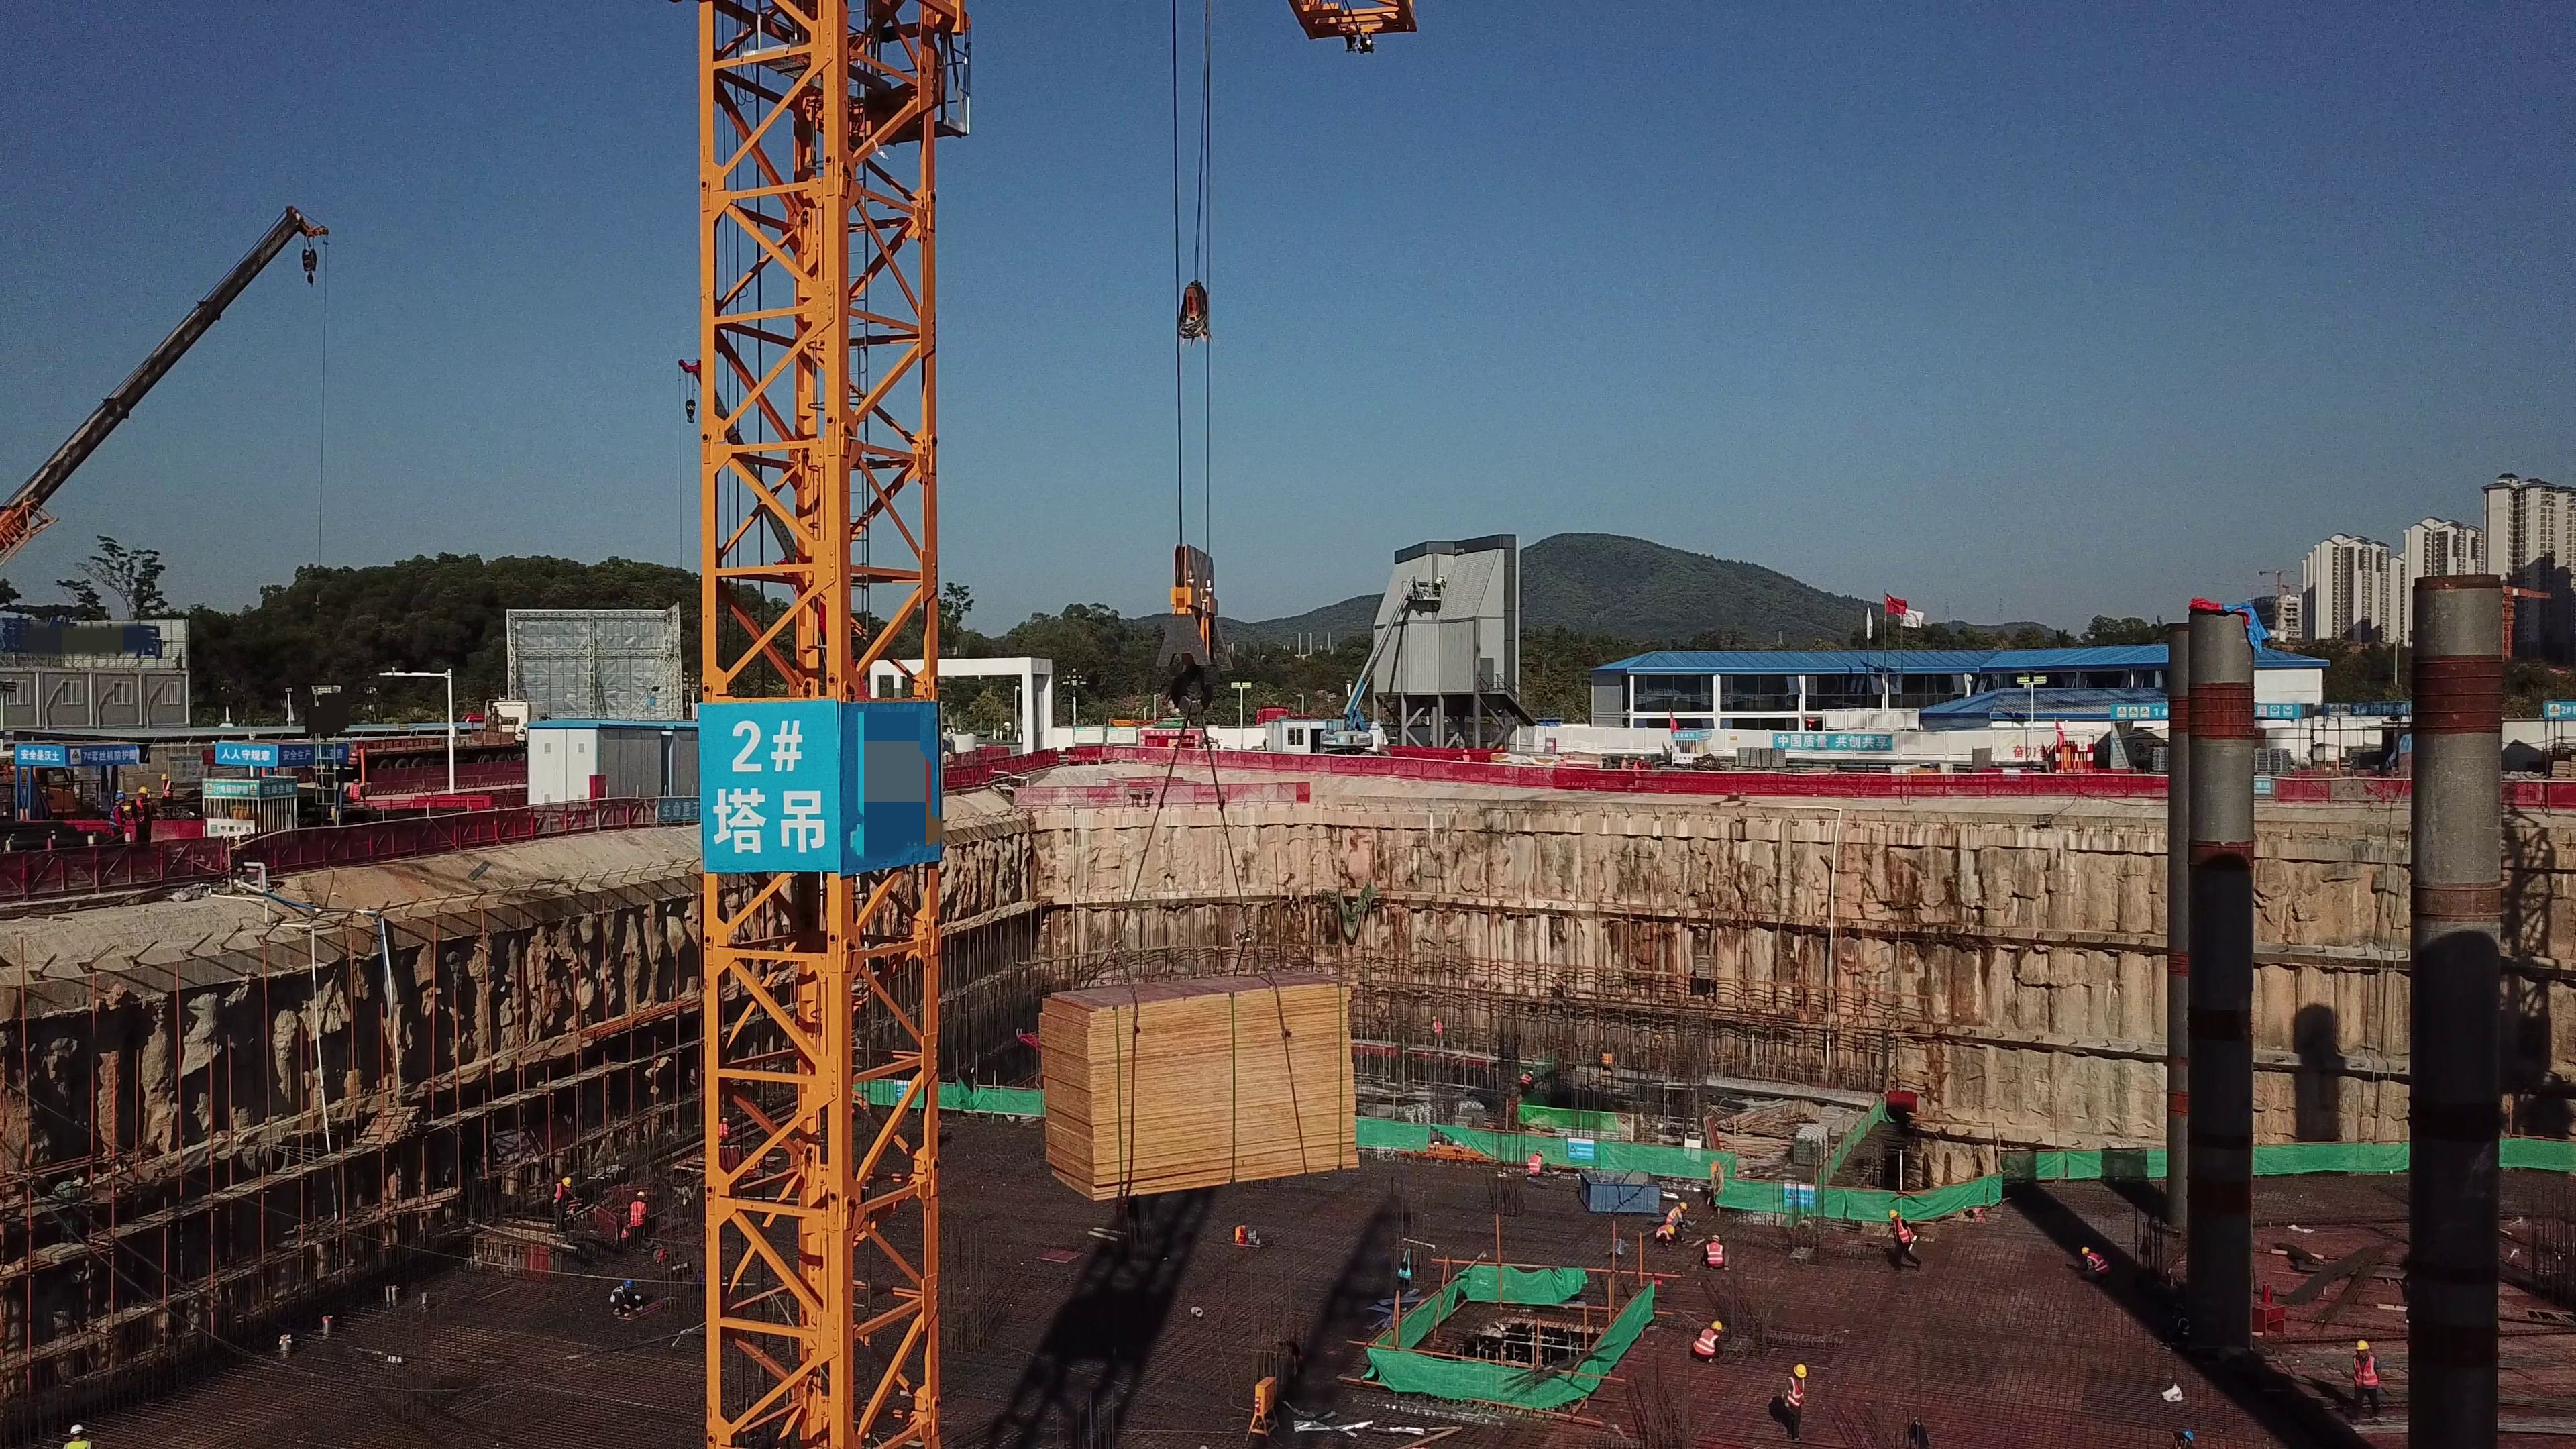board: (1045, 977, 1375, 1191)
brick: (1731, 747, 1794, 771)
ebox: (1248, 1371, 1293, 1438)
fence: (318, 789, 648, 851), (1811, 771, 2133, 798)
helmet: (2354, 1340, 2371, 1351), (1791, 1364, 1805, 1378), (561, 1177, 573, 1192), (136, 786, 150, 796), (1710, 1320, 1723, 1330), (623, 1279, 637, 1288), (633, 1193, 647, 1199), (1678, 1202, 1687, 1211), (1887, 1210, 1898, 1218), (1667, 1226, 1676, 1235), (114, 792, 127, 798), (160, 773, 170, 780), (1536, 1148, 1544, 1157), (1711, 1234, 1720, 1240), (2081, 1248, 2089, 1254), (1639, 755, 1646, 762), (1460, 748, 1469, 754), (720, 1116, 728, 1122), (1432, 1015, 1438, 1022), (1529, 1070, 1535, 1075), (1623, 753, 1629, 759)
hook: (1157, 545, 1234, 716), (299, 247, 317, 287), (683, 396, 699, 423)
hopper: (1582, 1170, 1660, 1218)
person: (2344, 1332, 2385, 1426), (1881, 1209, 1926, 1276), (1778, 1356, 1808, 1442), (547, 1172, 577, 1245), (604, 1277, 653, 1321), (623, 1190, 655, 1247), (1691, 1312, 1723, 1367), (2076, 1242, 2111, 1281), (1701, 1230, 1730, 1274), (132, 785, 154, 848), (109, 790, 130, 843), (157, 770, 180, 818), (62, 1419, 95, 1449), (1525, 1142, 1548, 1181), (713, 1114, 735, 1153), (1654, 1222, 1682, 1249), (1514, 1069, 1541, 1099), (1425, 1014, 1451, 1044), (1666, 1199, 1695, 1221), (1546, 969, 1564, 1002), (1630, 754, 1647, 772), (1620, 752, 1631, 771), (1458, 749, 1472, 763), (1261, 737, 1269, 749), (1556, 757, 1568, 766)
scaffold: (1403, 1093, 1486, 1132), (1796, 1124, 1830, 1163)
slogan: (704, 697, 842, 862), (1778, 733, 1896, 757), (70, 743, 142, 771), (219, 738, 276, 764), (659, 792, 703, 824), (284, 744, 348, 764), (2331, 702, 2413, 719), (15, 745, 62, 765), (207, 784, 258, 801), (2545, 700, 2576, 720), (262, 782, 297, 794), (1673, 731, 1700, 741)
vest: (2354, 1354, 2377, 1385), (1696, 1331, 1717, 1359), (1786, 1377, 1805, 1408), (110, 806, 127, 830), (627, 1201, 646, 1226), (135, 798, 152, 821), (2089, 1253, 2108, 1275), (1892, 1220, 1910, 1243), (1707, 1243, 1724, 1263), (553, 1185, 566, 1206), (1527, 1155, 1542, 1173), (609, 1285, 625, 1302), (1666, 1205, 1679, 1221), (1656, 1224, 1668, 1237), (161, 782, 172, 797), (718, 1123, 729, 1138), (1521, 1075, 1532, 1087), (1432, 1022, 1443, 1034), (1461, 754, 1470, 761), (1621, 759, 1628, 768), (1633, 761, 1641, 770)
wood: (1727, 1104, 1794, 1161)
